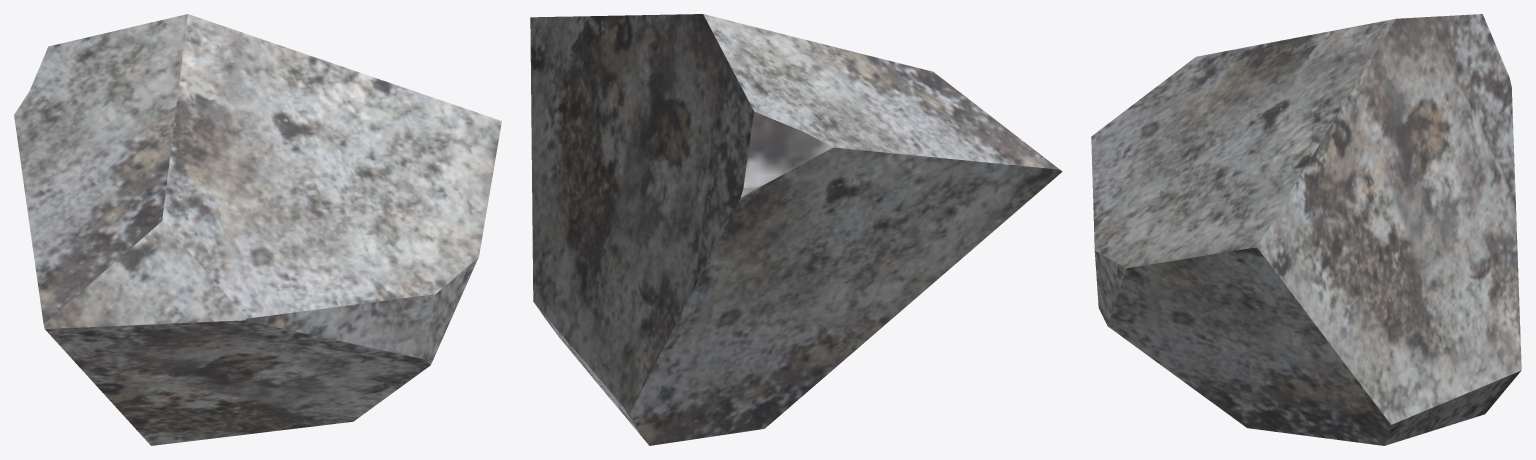
Rendered from Asteroid_Large_001_02_005_03_013.fbx.
3 views of the same model, side by side, from view 1: azimuth 30°, elevation 25°; view 2: azimuth 150°, elevation 25°; view 3: azimuth 270°, elevation 25° (orthographic). The views are drawn at different scales.
Parts seen in each view (by area): view 1: Asteroid_Large_001_02_005_03_013; view 2: Asteroid_Large_001_02_005_03_013; view 3: Asteroid_Large_001_02_005_03_013.
Boxes of the visible parts, bbox=[...] form: Asteroid_Large_001_02_005_03_013: bbox=[14, 14, 501, 445]; Asteroid_Large_001_02_005_03_013: bbox=[530, 14, 1062, 445]; Asteroid_Large_001_02_005_03_013: bbox=[1091, 14, 1521, 445].
Bounding box in the file's own units: 10.17 × 8.08 × 7.83.
